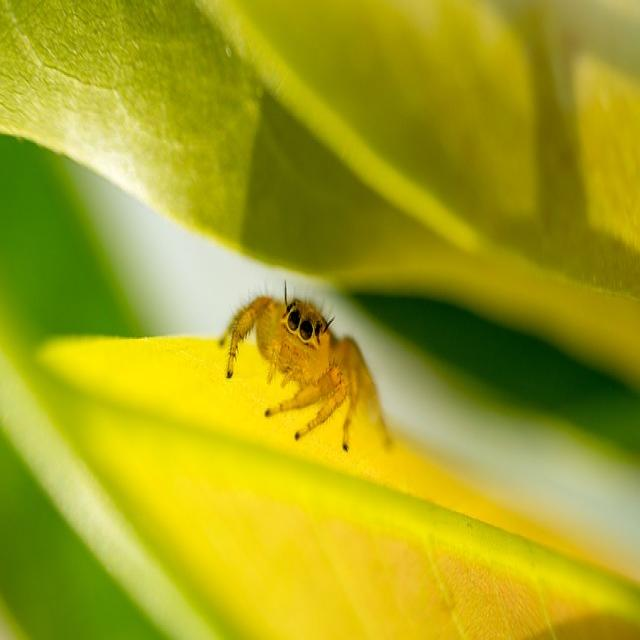spyder: (227, 297, 360, 452)
